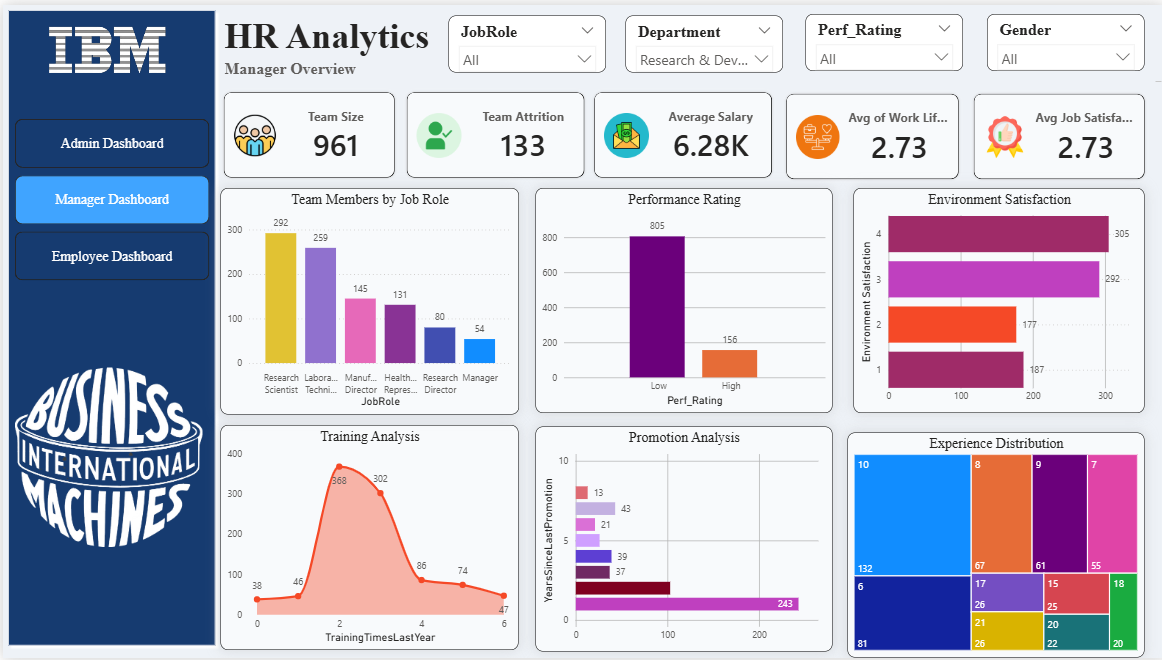

The page's visual inventory and layout, read from the dashboard file:
{"tool":"powerbi","page":{"name":"Manager Dashboard","canvas":[1550,870],"ordinal":1},"visuals":[{"type":"shape","box":[0,0,290.2,861.1],"z":0},{"type":"image","box":[0,27.5,278.5,81],"z":1000},{"type":"cardVisual","fields":{"Data":["IBM_DataSet_2.Team Attrition"]},"box":[509.7,88,293.4,170.5],"z":2000},{"type":"cardVisual","fields":{"Data":["IBM_DataSet_2.Team Size"]},"box":[265.9,88,284.2,170.5],"z":3000},{"type":"cardVisual","fields":{"Data":["IBM_DataSet_2.Average Salary"]},"box":[760.9,88,293.4,170.5],"z":4000},{"type":"cardVisual","fields":{"Data":["Avg(IBM_DataSet_2.WorkLifeBalance)"]},"box":[1015.8,89.8,286,170.5],"z":5000},{"type":"cardVisual","fields":{"Data":["Avg(IBM_DataSet_2.JobSatisfaction)"]},"box":[1265.2,89.8,284.2,170.5],"z":6000},{"type":"textbox","title":"HR Analytics","box":[289.7,14.7,1259.7,93.5],"z":7000},{"type":"clusteredColumnChart","title":"Performance Rating","fields":{"Y":["CountNonNull(IBM_DataSet_2.Emp_ID)"],"Category":["IBM_DataSet_2.Perf_Rating"]},"box":[709.2,244.1,395.9,299.8],"z":8000},{"type":"barChart","title":"Environment Satisfaction","fields":{"Y":["CountNonNull(IBM_DataSet_2.Emp_ID)"],"Category":["IBM_DataSet_2.EnvironmentSatisfaction"]},"box":[1134,244.1,388.2,299.8],"z":9000},{"type":"areaChart","title":"Training Analysis","fields":{"Y":["CountNonNull(IBM_DataSet_2.Emp_ID)"],"Category":["IBM_DataSet_2.TrainingTimesLastYear"]},"box":[290.7,560.5,397.1,300.2],"z":10000},{"type":"clusteredBarChart","title":" Promotion Analysis","fields":{"Category":["IBM_DataSet_2.YearsSinceLastPromotion"],"Y":["CountNonNull(IBM_DataSet_2.Emp_ID)"]},"box":[709.2,561.2,395.9,299.8],"z":11000},{"type":"pageNavigator","box":[15.4,151.8,259.5,215.3],"z":12000},{"type":"columnChart","title":"Team Members by Job Role","fields":{"Category":["IBM_DataSet_2.JobRole"],"Y":["CountNonNull(IBM_DataSet_2.Emp_ID)"]},"box":[290.2,244.1,397.9,301.8],"z":13000},{"type":"treemap","title":" Experience Distribution","fields":{"Values":["CountNonNull(IBM_DataSet_2.Emp_ID)"],"Group":["IBM_DataSet_2.TotalWorkingYears"]},"box":[1126.3,570.8,395.9,299.8],"z":14000},{"type":"slicer","fields":{"Values":["IBM_DataSet_2.JobRole"]},"box":[594,14,210,76],"z":15000},{"type":"slicer","fields":{"Values":["IBM_DataSet_2.Department"]},"box":[830,14,210,76],"z":16000},{"type":"slicer","fields":{"Values":["IBM_DataSet_2.Perf_Rating"]},"box":[1070,12,210,76],"z":17000},{"type":"slicer","fields":{"Values":["IBM_DataSet_2.Gender"]},"box":[1312,12,210,76],"z":17001},{"type":"image","box":[16,464,250,278],"z":17002}]}

Visuals, with their boxes in screenshot pixels (x1, y1, x2, y2), scaled from the page's 1550x870 canvas onto the 1162x660 screenshot:
shape: x1=0, y1=0, x2=218, y2=653
image: x1=0, y1=21, x2=209, y2=82
cardVisual - IBM_DataSet_2.Team Attrition: x1=382, y1=67, x2=602, y2=196
cardVisual - IBM_DataSet_2.Team Size: x1=199, y1=67, x2=412, y2=196
cardVisual - IBM_DataSet_2.Average Salary: x1=570, y1=67, x2=790, y2=196
cardVisual - Avg(IBM_DataSet_2.WorkLifeBalance): x1=762, y1=68, x2=976, y2=197
cardVisual - Avg(IBM_DataSet_2.JobSatisfaction): x1=948, y1=68, x2=1161, y2=197
"HR Analytics" textbox: x1=217, y1=11, x2=1161, y2=82
"Performance Rating" clusteredColumnChart: x1=532, y1=185, x2=828, y2=413
"Environment Satisfaction" barChart: x1=850, y1=185, x2=1141, y2=413
"Training Analysis" areaChart: x1=218, y1=425, x2=516, y2=653
" Promotion Analysis" clusteredBarChart: x1=532, y1=426, x2=828, y2=653
pageNavigator: x1=12, y1=115, x2=206, y2=278
"Team Members by Job Role" columnChart: x1=218, y1=185, x2=516, y2=414
" Experience Distribution" treemap: x1=844, y1=433, x2=1141, y2=659
slicer - IBM_DataSet_2.JobRole: x1=445, y1=11, x2=603, y2=68
slicer - IBM_DataSet_2.Department: x1=622, y1=11, x2=780, y2=68
slicer - IBM_DataSet_2.Perf_Rating: x1=802, y1=9, x2=960, y2=67
slicer - IBM_DataSet_2.Gender: x1=984, y1=9, x2=1141, y2=67
image: x1=12, y1=352, x2=199, y2=563
